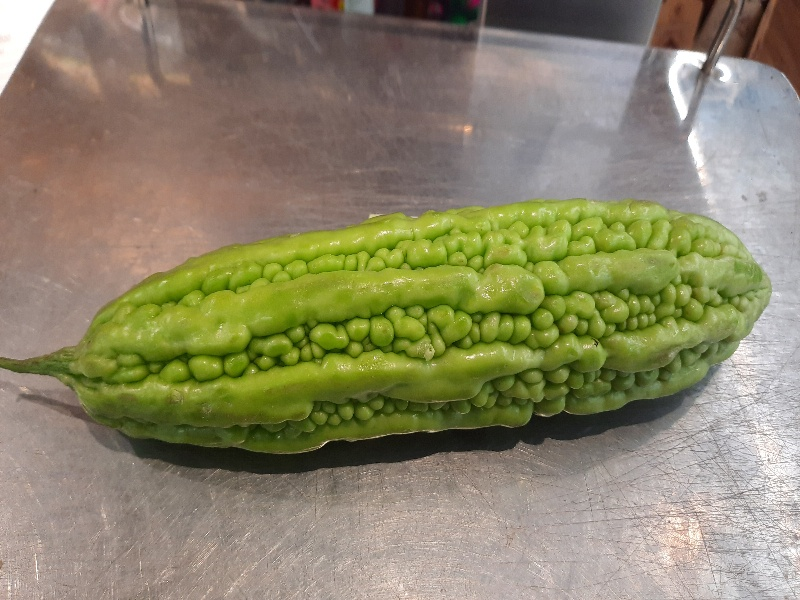vege: (34, 200, 778, 465)
